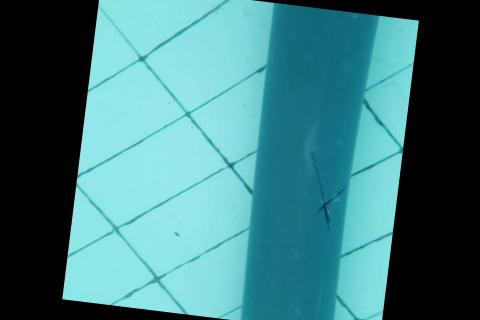keretakan: (299, 151, 348, 231)
